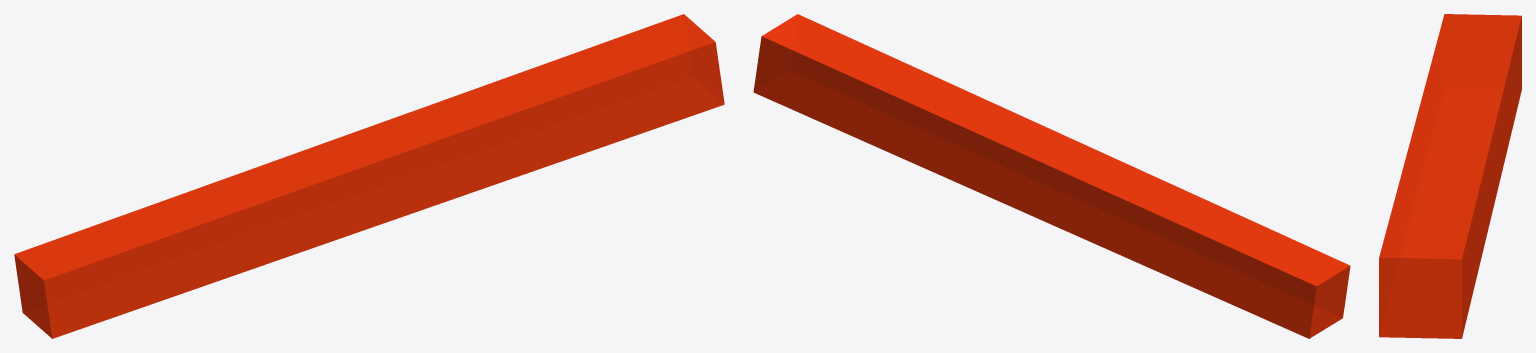
The model's file is Event_421556567_EErechit_53.fbx.
3 renders of one model, left to right at view 1: azimuth 30°, elevation 25°; view 2: azimuth 150°, elevation 25°; view 3: azimuth 270°, elevation 25°, orthographic. The views are drawn at different scales.
Visible parts, largest first — view 1: Model; view 2: Model; view 3: Model.
Part boxes in pixels (left/top/right/bottom): Model: left=14, top=14, right=724, bottom=338; Model: left=753, top=14, right=1350, bottom=338; Model: left=1379, top=14, right=1521, bottom=338.
Size of the model in its own units: 0.8151 by 0.1938 by 0.1335.
